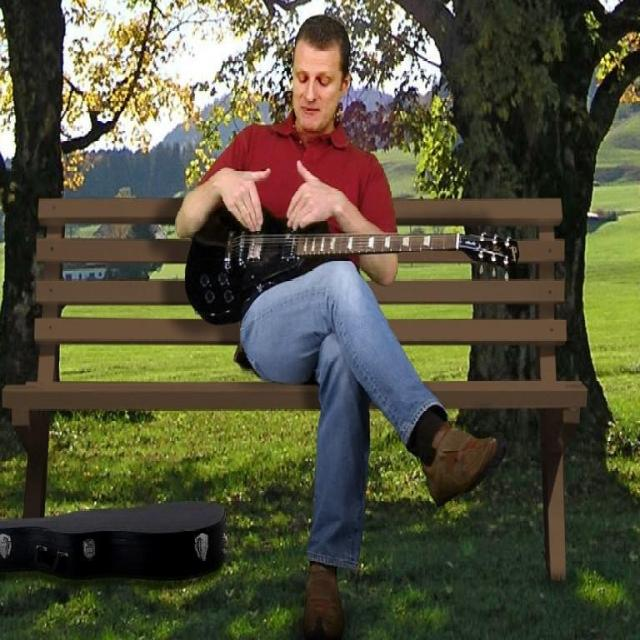guitar: (182, 204, 520, 333)
